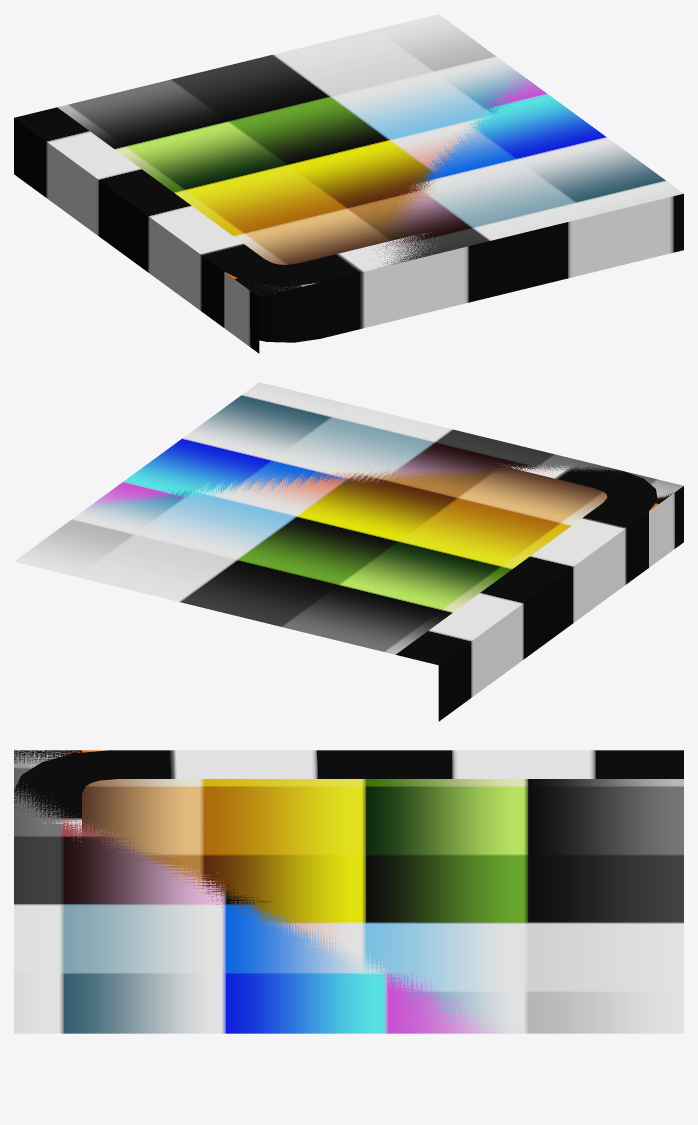
Rendered from TrotralPot.fbx.
3 views of the same model, one above another, from view 1: azimuth 30°, elevation 25°; view 2: azimuth 150°, elevation 25°; view 3: azimuth 270°, elevation 25° (orthographic). The views are drawn at different scales.
Parts seen in each view (by area): view 1: TanahPemabatas2, TanahPemabatas3, TanahPemabatas4, TanahPemabatas1; view 2: TanahPemabatas2, TanahPemabatas3, TanahPemabatas4; view 3: TanahPemabatas2, TanahPemabatas3, TanahPemabatas1.
Part boxes in pixels (x1,y1,x2,y2): TanahPemabatas2: (14,14,683,342); TanahPemabatas3: (265,71,683,290); TanahPemabatas4: (224,272,259,353); TanahPemabatas1: (225,272,314,297); TanahPemabatas2: (14,463,657,721); TanahPemabatas3: (86,382,683,509); TanahPemabatas4: (649,486,683,567); TanahPemabatas2: (14,750,683,1033); TanahPemabatas3: (14,750,528,1033); TanahPemabatas1: (14,750,107,764).
Size of the model in its own units: 200 by 25.41 by 200.
